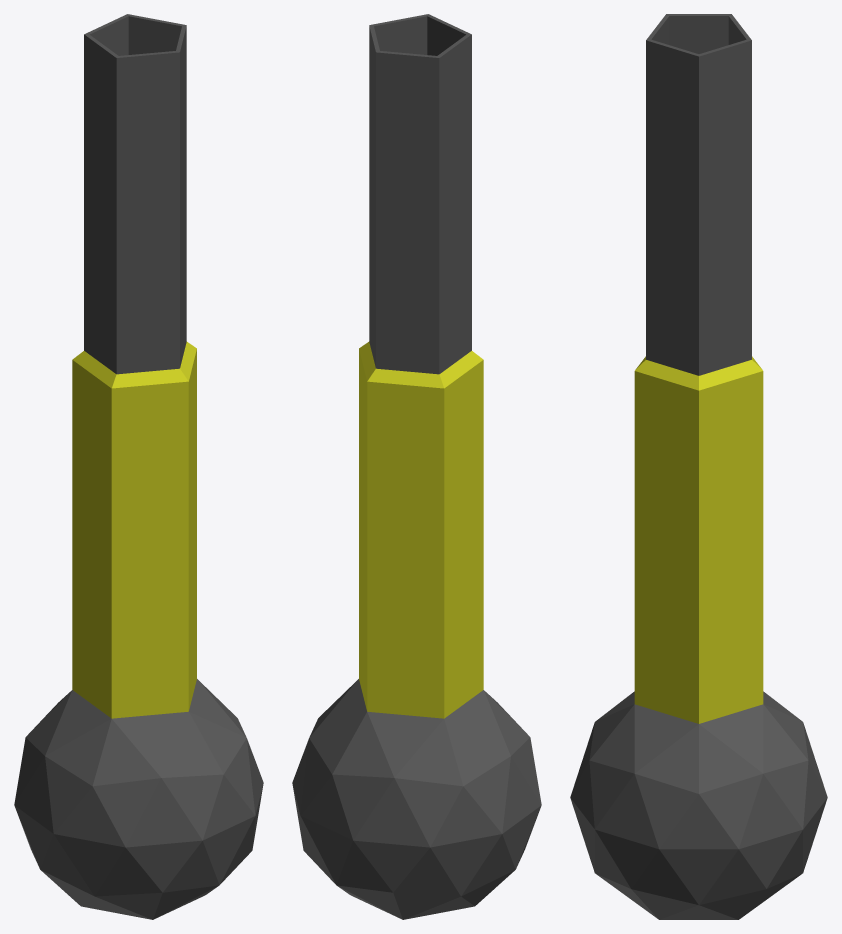
File: droneCannon.fbx
The picture shows the model from 3 angles, left to right: view 1: azimuth 30°, elevation 25°; view 2: azimuth 150°, elevation 25°; view 3: azimuth 270°, elevation 25°; orthographic projection.
Visible parts, largest first — view 1: Cannon; view 2: Cannon; view 3: Cannon.
Boxes of the visible parts, box(x1,y1,x2,y2) form: Cannon: box(14, 14, 263, 919); Cannon: box(292, 14, 541, 919); Cannon: box(570, 14, 827, 919).
Size of the model in its own units: 58.42 by 232 by 61.43.
